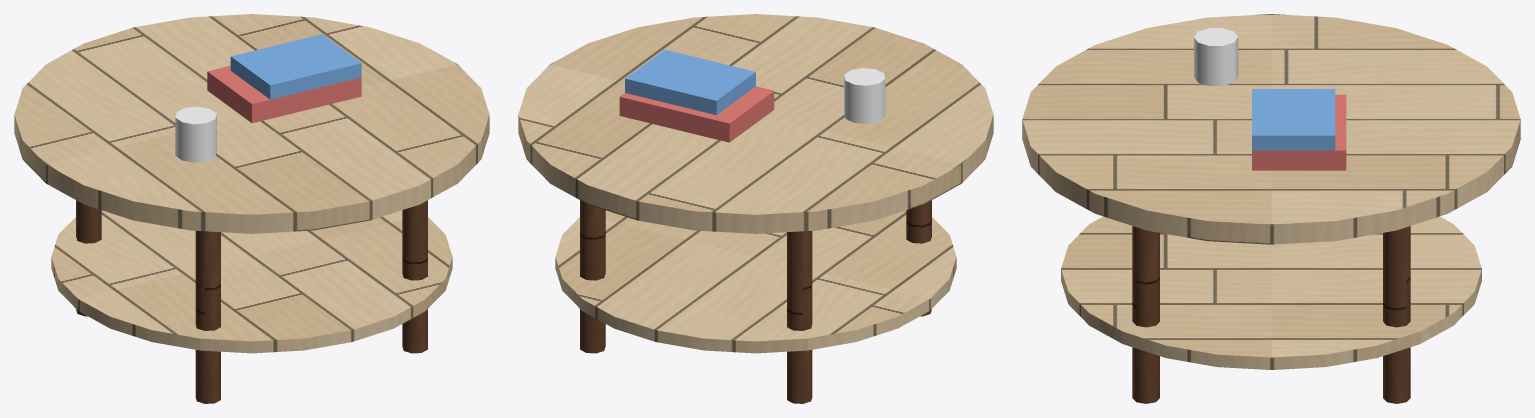
3 views of the same model, side by side, from view 1: azimuth 30°, elevation 25°; view 2: azimuth 150°, elevation 25°; view 3: azimuth 270°, elevation 25° (orthographic). The views are drawn at different scales.
Visible parts, largest first — view 1: Decor_coffee_table_round; view 2: Decor_coffee_table_round; view 3: Decor_coffee_table_round.
Part boxes in pixels (x1,y1,x2,y2): Decor_coffee_table_round: [14, 14, 489, 403]; Decor_coffee_table_round: [518, 14, 993, 403]; Decor_coffee_table_round: [1022, 14, 1520, 403].
Size of the model in its own units: 0.9 by 0.53 by 0.9.
Materials: 5 (2 with a texture image).
